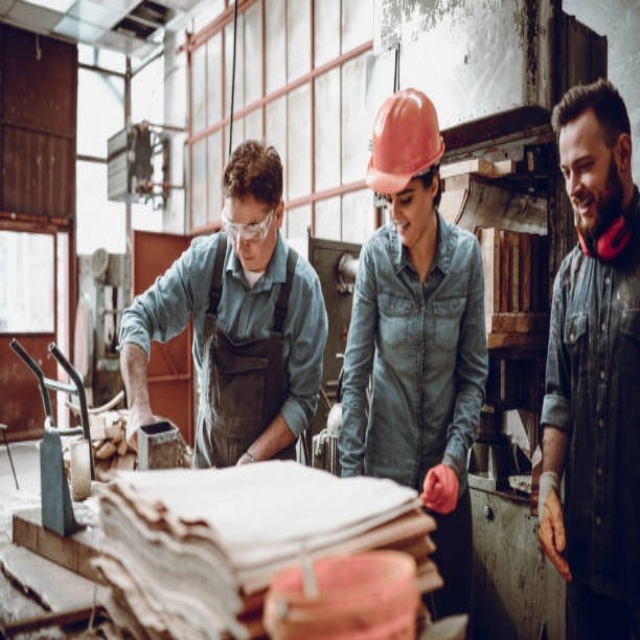Gafas: (223, 203, 276, 243)
Guantes: (535, 464, 574, 584), (420, 463, 459, 515)
Sin_gafas: (558, 149, 609, 177), (382, 180, 422, 209)
Sin_mascara: (569, 190, 600, 229), (234, 246, 264, 273), (389, 212, 414, 243)
